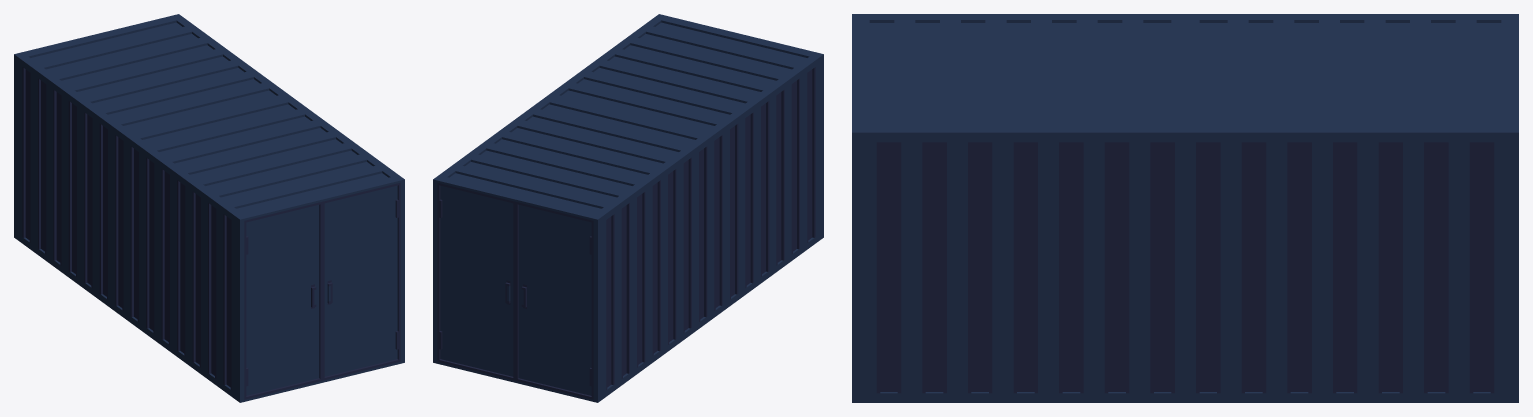
Rendered from Container_blue.vox.obj.
3 views of the same model, side by side, from view 1: azimuth 30°, elevation 25°; view 2: azimuth 150°, elevation 25°; view 3: azimuth 270°, elevation 25° (orthographic). The views are drawn at different scales.
Bounding box in the file's own units: 8 × 8.5 × 19.
Materials: 1 (1 with a texture image).
